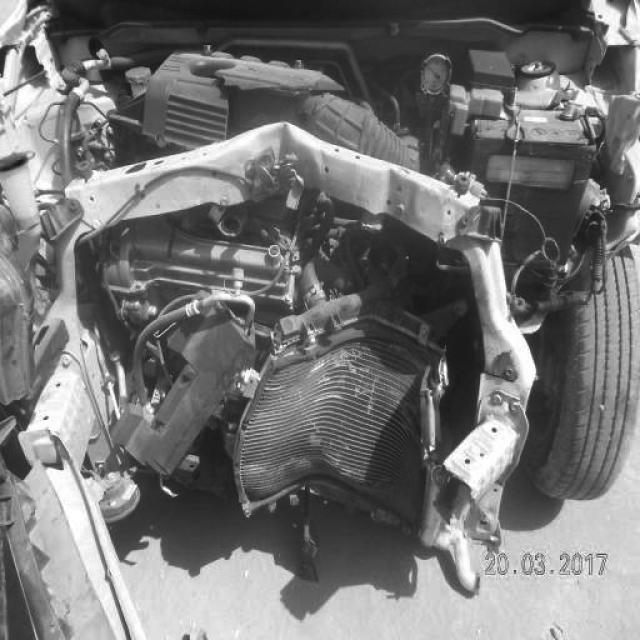car damage: (17, 45, 636, 517)
